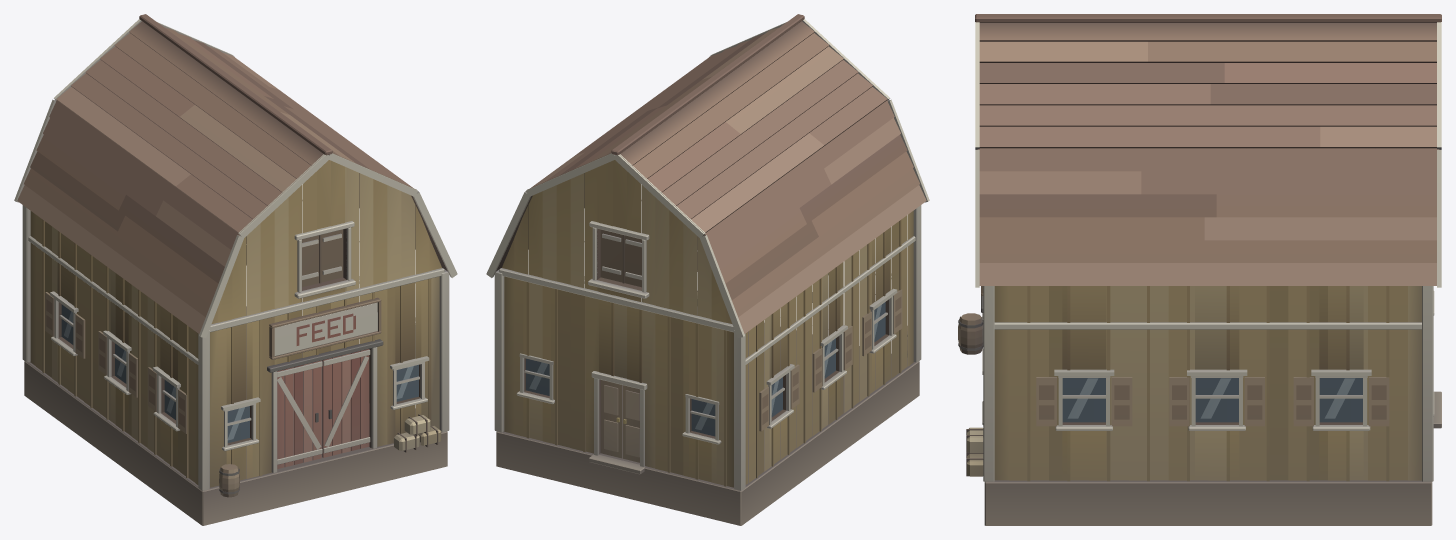
Rendered from house_10.glb.
The picture shows the model from 3 angles, left to right: view 1: azimuth 30°, elevation 25°; view 2: azimuth 150°, elevation 25°; view 3: azimuth 270°, elevation 25°; orthographic projection. The views are drawn at different scales.
Size of the model in its own units: 8.38 by 10.84 by 10.92.
